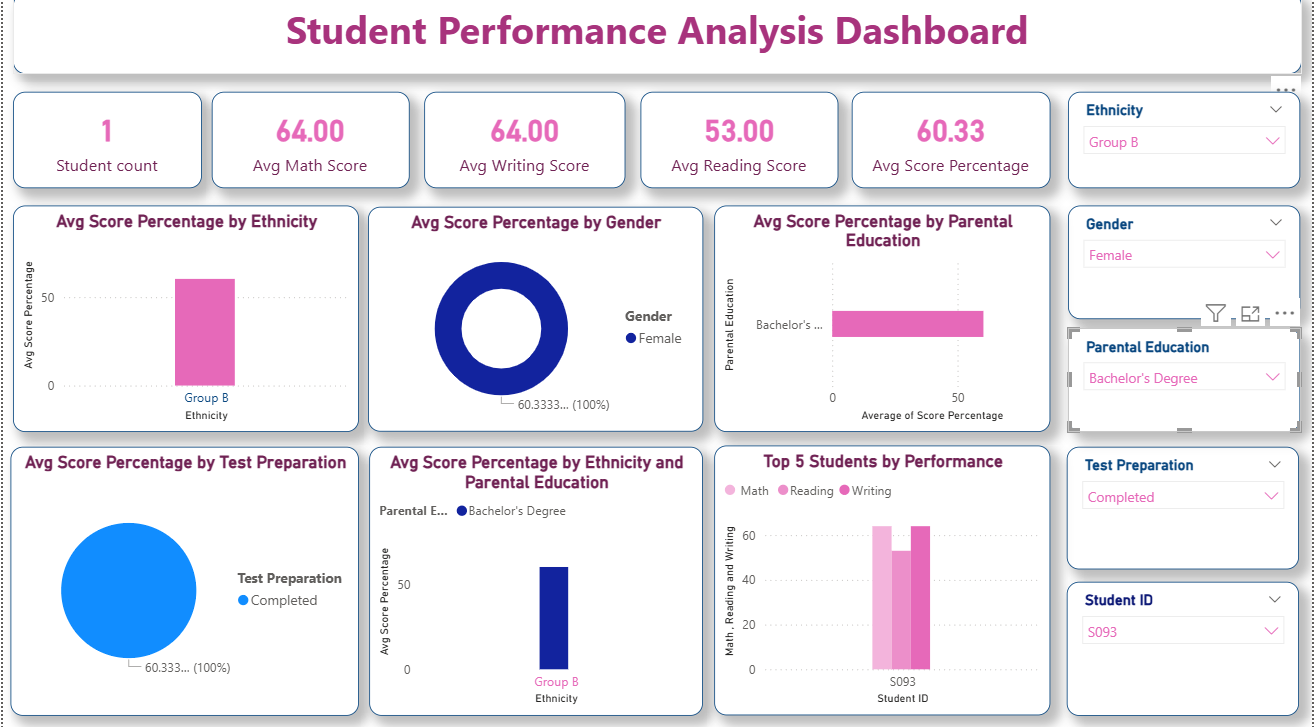

What the dashboard file says about the page in this screenshot:
{"tool":"powerbi","page":{"name":"Page 1","canvas":[1280,720],"ordinal":0},"visuals":[{"type":"textbox","box":[9.6,0,1261.1,79.6],"z":0},{"type":"card","fields":{"Values":["CountNonNull(marks.Student ID)"]},"box":[9.8,96.6,184.6,94.2],"z":1000},{"type":"card","fields":{"Values":["Avg(marks.Math Score)"]},"box":[204.2,96.6,193.2,94.2],"z":2000},{"type":"card","fields":{"Values":["Avg(marks.Writing Score)"]},"box":[412.1,96.6,196.9,94.2],"z":3000},{"type":"card","fields":{"Values":["Avg(marks.Reading Score)"]},"box":[623.6,96.6,193.2,94.2],"z":4000},{"type":"card","fields":{"Values":["Avg(marks.Score Percentage)"]},"box":[830.3,96.6,194.4,94.2],"z":5000},{"type":"slicer","fields":{"Values":["marks.Ethnicity"]},"box":[1041.9,96.6,227.4,94.2],"z":6000},{"type":"slicer","fields":{"Values":["marks.Gender"]},"box":[1041.9,207.9,227.4,111.3],"z":7000},{"type":"slicer","fields":{"Values":["marks.Parental Education"]},"box":[1041.9,327.7,227.4,101.5],"z":9000},{"type":"columnChart","fields":{"Category":["marks.Ethnicity"],"Y":["Avg(marks.Score Percentage)"]},"box":[9.8,207.9,338.7,221.3],"z":10000},{"type":"donutChart","title":"Avg Score Percentage by Gender","fields":{"Category":["marks.Gender"],"Y":["Avg(marks.Score Percentage)"]},"box":[357.1,209.1,327.7,220.1],"z":11000},{"type":"clusteredBarChart","title":"Avg Score Percentage by Parental Education","fields":{"Category":["marks.Parental Education"],"Y":["Avg(marks.Score Percentage)"]},"box":[695.8,207.9,328.9,221.3],"z":12000},{"type":"pieChart","title":"Avg Score Percentage by Test Preparation","fields":{"Category":["marks.Test Preparation"],"Y":["Avg(marks.Score Percentage)"]},"box":[7.3,443.9,341.2,262.9],"z":13000},{"type":"ribbonChart","fields":{"Category":["marks.Ethnicity"],"Y":["Avg(marks.Score Percentage)"],"Series":["marks.Parental Education"]},"box":[358.3,443.9,326.5,262.9],"z":14000},{"type":"slicer","fields":{"Values":["marks.Test Preparation"]},"box":[1040.6,443.9,227.4,119.8],"z":15000},{"type":"clusteredColumnChart","title":"Top 5 Students by Performance","fields":{"Y":["Avg(marks.Math Score)","Avg(marks.Reading Score)","Avg(marks.Writing Score)"],"Category":["marks.Student ID"]},"box":[695.8,442.7,328.9,264.1],"z":16000},{"type":"slicer","fields":{"Values":["marks.Student ID"]},"box":[1040.6,576,227.4,130.8],"z":17000}]}

Visuals, with their boxes in screenshot pixels (x1, y1, x2, y2), scaled from the page's 1280x720 canvas onto the 1315x727 screenshot:
textbox: BBox(10, 0, 1305, 80)
card - CountNonNull(marks.Student ID): BBox(10, 98, 200, 193)
card - Avg(marks.Math Score): BBox(210, 98, 408, 193)
card - Avg(marks.Writing Score): BBox(423, 98, 626, 193)
card - Avg(marks.Reading Score): BBox(641, 98, 839, 193)
card - Avg(marks.Score Percentage): BBox(853, 98, 1053, 193)
slicer - marks.Ethnicity: BBox(1070, 98, 1304, 193)
slicer - marks.Gender: BBox(1070, 210, 1304, 322)
slicer - marks.Parental Education: BBox(1070, 331, 1304, 433)
columnChart - marks.Ethnicity x Avg(marks.Score Percentage): BBox(10, 210, 358, 433)
"Avg Score Percentage by Gender" donutChart: BBox(367, 211, 704, 433)
"Avg Score Percentage by Parental Education" clusteredBarChart: BBox(715, 210, 1053, 433)
"Avg Score Percentage by Test Preparation" pieChart: BBox(7, 448, 358, 714)
ribbonChart - marks.Ethnicity x Avg(marks.Score Percentage): BBox(368, 448, 704, 714)
slicer - marks.Test Preparation: BBox(1069, 448, 1303, 569)
"Top 5 Students by Performance" clusteredColumnChart: BBox(715, 447, 1053, 714)
slicer - marks.Student ID: BBox(1069, 582, 1303, 714)
